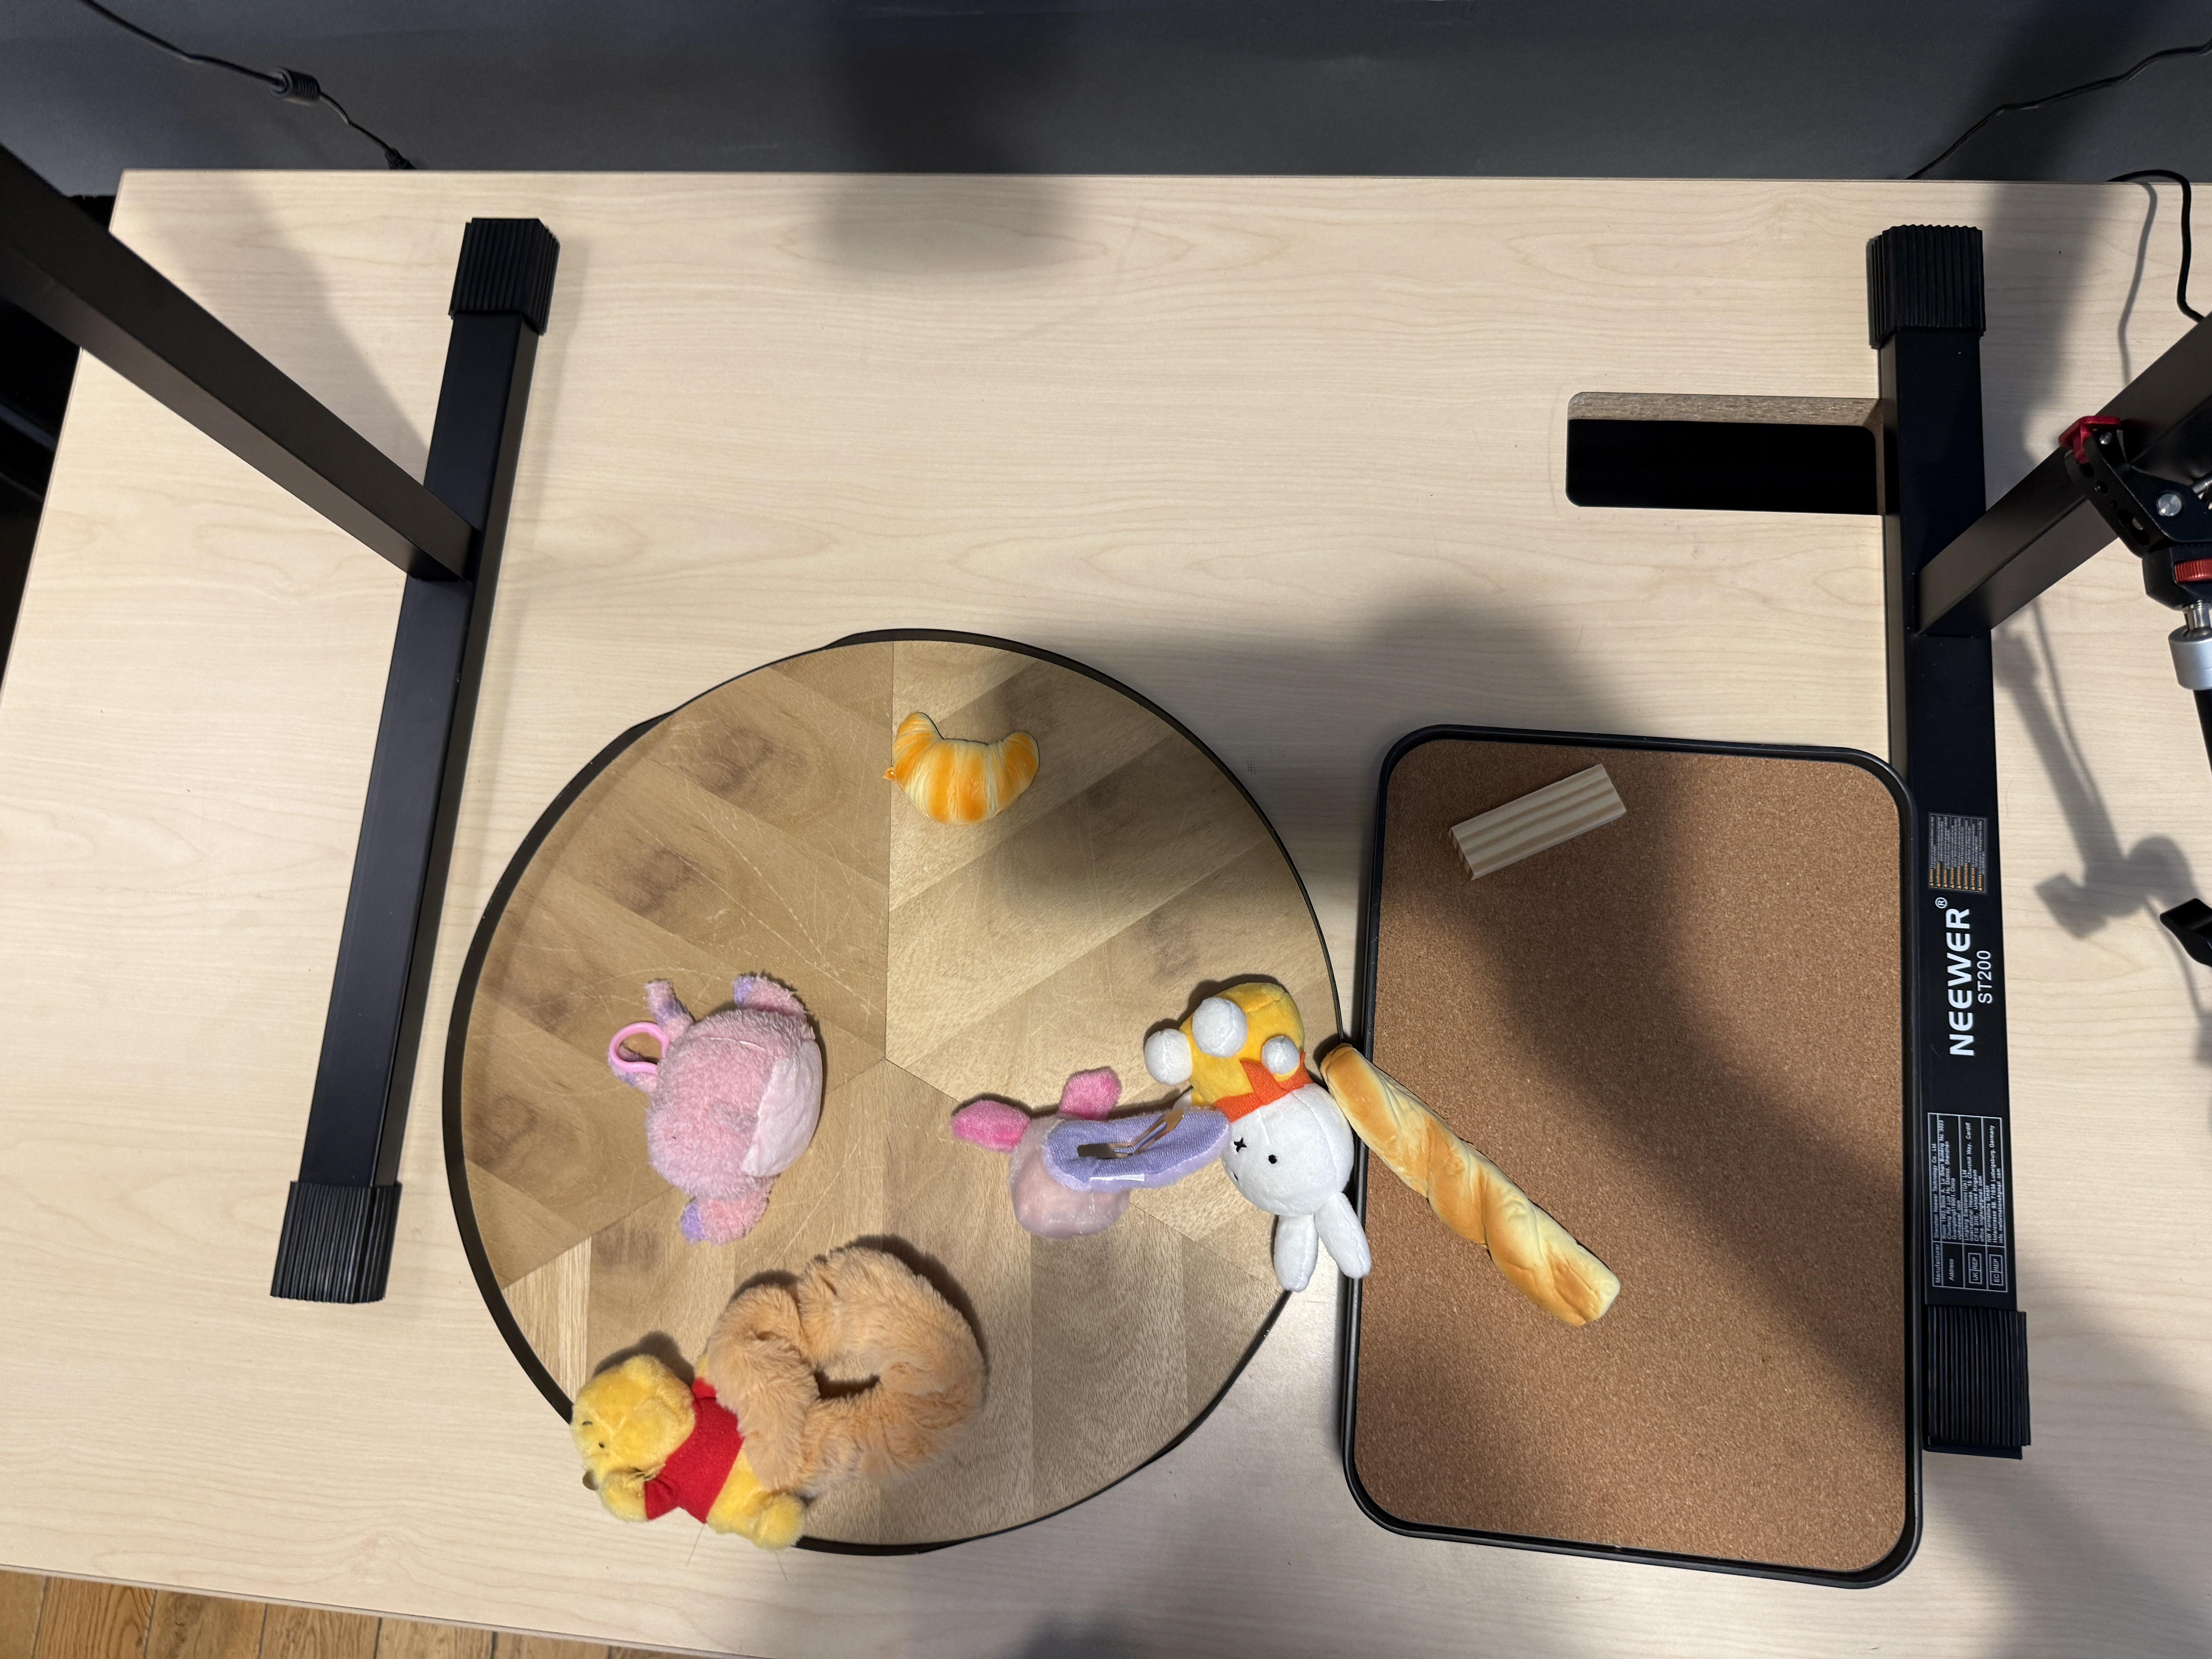block: (1442, 760, 1629, 887)
bread: (1320, 1046, 1623, 1326), (883, 711, 1043, 829)
doll: (571, 1248, 986, 1547), (1144, 976, 1369, 1291), (620, 974, 826, 1248), (953, 1070, 1233, 1239)
